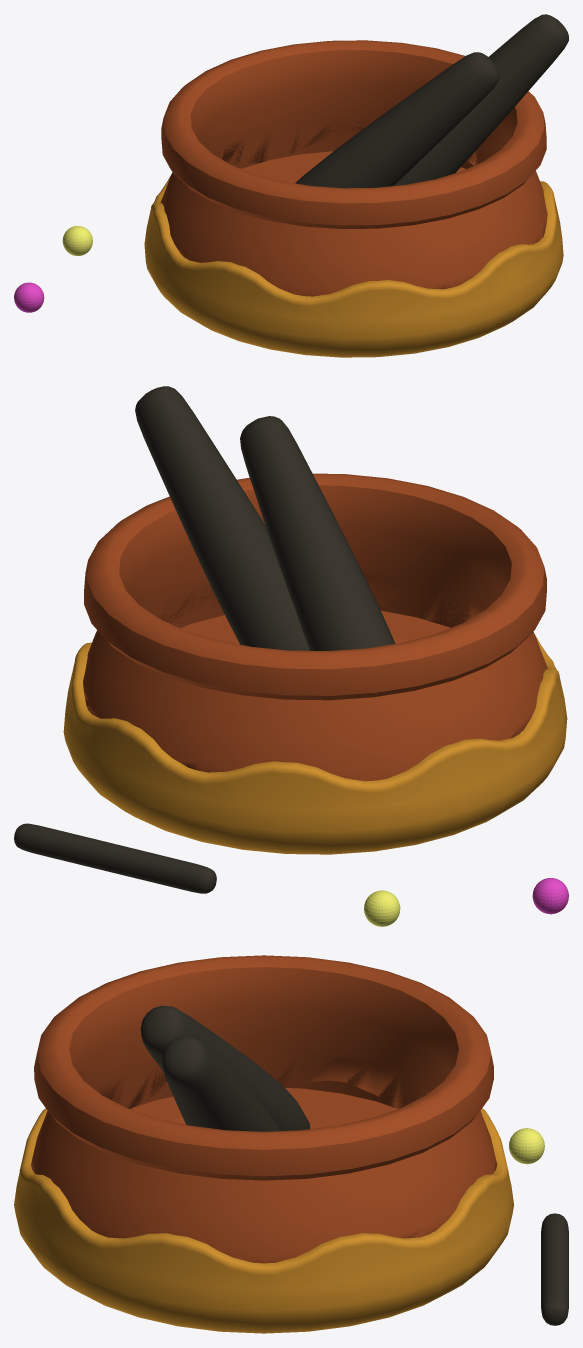
Rendered from pot_3.fbx.
The picture shows the model from 3 angles, top to bottom: view 1: azimuth 30°, elevation 25°; view 2: azimuth 150°, elevation 25°; view 3: azimuth 270°, elevation 25°; orthographic projection. The views are drawn at different scales.
Visible parts, largest first — view 1: pot_3; view 2: pot_3; view 3: pot_3.
Part boxes in pixels (x1=…): pot_3: x1=14, y1=14, x2=568, y2=357; pot_3: x1=14, y1=386, x2=568, y2=926; pot_3: x1=14, y1=955, x2=568, y2=1333.
Bounding box in the file's own units: 154 × 84.95 × 137.
